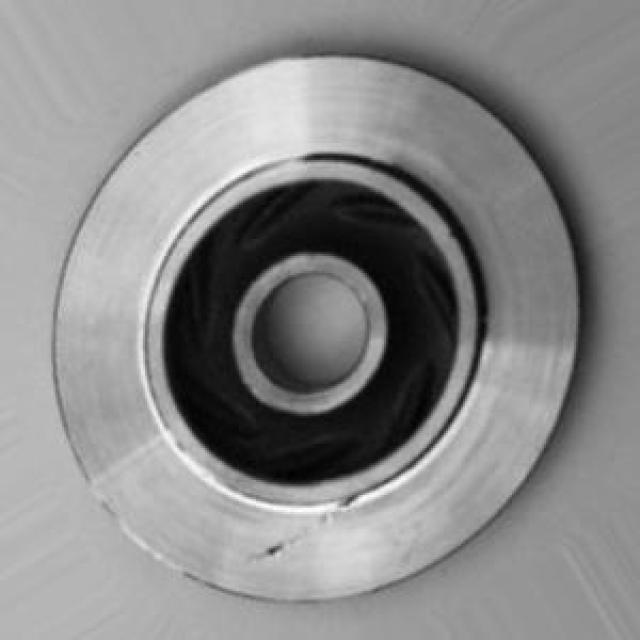Defect: (253, 527, 295, 574)
